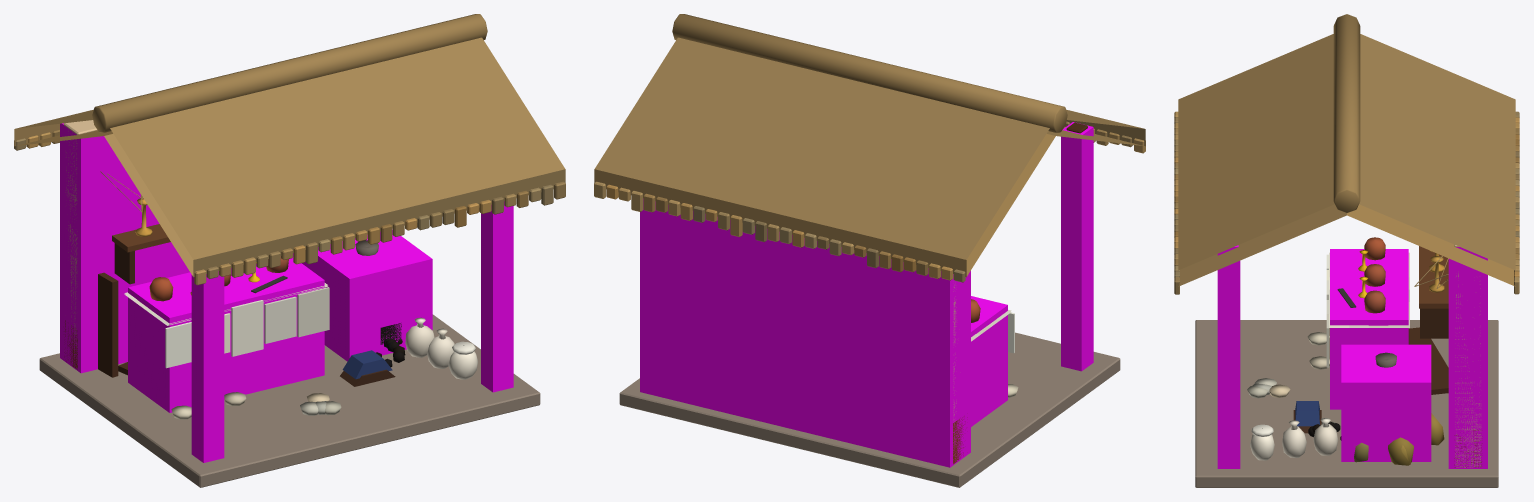
File: PRP_Casting_Corner_A.glb
3 renders of one model, left to right at view 1: azimuth 30°, elevation 25°; view 2: azimuth 150°, elevation 25°; view 3: azimuth 270°, elevation 25°, orthographic. The views are drawn at different scales.
Parts seen in each view (by area): view 1: PRP_Casting_Corner_A_Base, COL_Back, COL_Bench, COL_Furnace, STATE_neglected, STATE_reopened, COL_Post_-1, COL_Post_1; view 2: PRP_Casting_Corner_A_Base, COL_Back, COL_Post_-1, COL_Bench, STATE_neglected; view 3: PRP_Casting_Corner_A_Base, COL_Furnace, COL_Back, STATE_reopened, COL_Bench, COL_Post_1, STATE_neglected.
Boxes of the visible parts, <box> form: PRP_Casting_Corner_A_Base: <box>14,14,565,487</box>; COL_Back: <box>60,123,293,373</box>; COL_Bench: <box>128,257,324,412</box>; COL_Furnace: <box>302,230,432,361</box>; STATE_neglected: <box>98,171,405,419</box>; STATE_reopened: <box>112,198,477,386</box>; COL_Post_-1: <box>191,271,224,462</box>; COL_Post_1: <box>481,201,513,392</box>; PRP_Casting_Corner_A_Base: <box>594,14,1145,487</box>; COL_Back: <box>640,198,970,467</box>; COL_Post_-1: <box>1061,122,1093,371</box>; COL_Bench: <box>971,296,1007,426</box>; STATE_neglected: <box>971,310,1018,397</box>; PRP_Casting_Corner_A_Base: <box>1174,14,1519,487</box>; COL_Furnace: <box>1341,344,1431,461</box>; COL_Back: <box>1448,247,1487,468</box>; STATE_reopened: <box>1250,237,1448,460</box>; COL_Bench: <box>1330,249,1408,409</box>; COL_Post_1: <box>1217,245,1240,468</box>; STATE_neglected: <box>1247,252,1448,465</box>.
Size of the model in its own units: 3.7 by 3.03 by 3.07.
